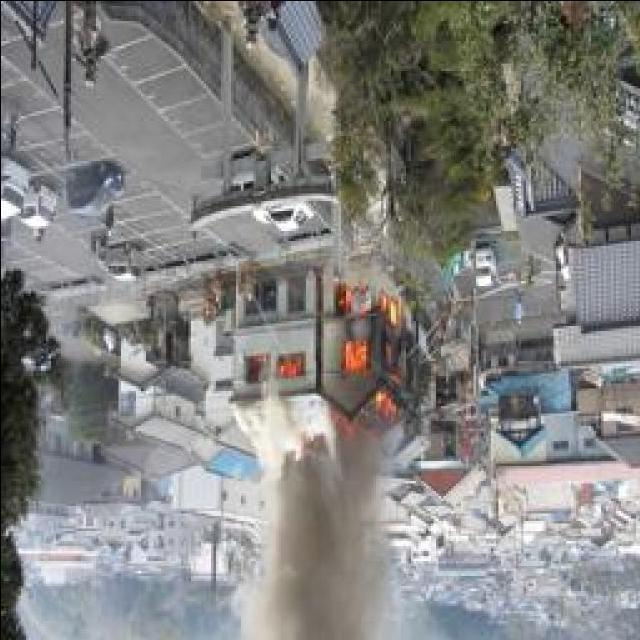Fire: (338, 287, 408, 415), (266, 350, 306, 378)
